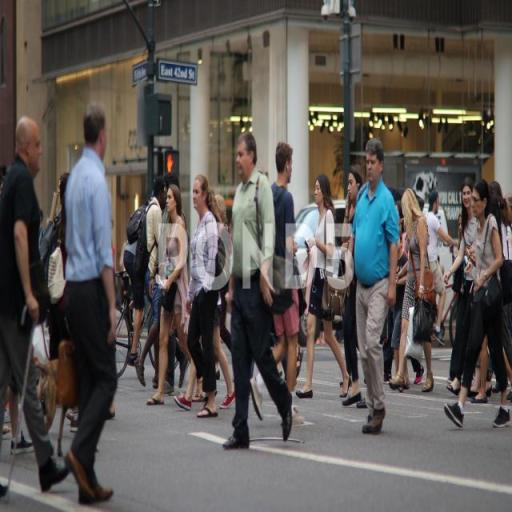person: (1, 116, 75, 498), (224, 132, 296, 451), (70, 106, 119, 505), (450, 180, 511, 435), (352, 140, 401, 436), (298, 173, 351, 398), (147, 186, 198, 409), (271, 136, 307, 428), (399, 189, 438, 395), (190, 175, 219, 420), (136, 173, 168, 389), (444, 180, 475, 397), (343, 168, 366, 411), (425, 187, 459, 345), (215, 195, 233, 351), (395, 232, 410, 393)
